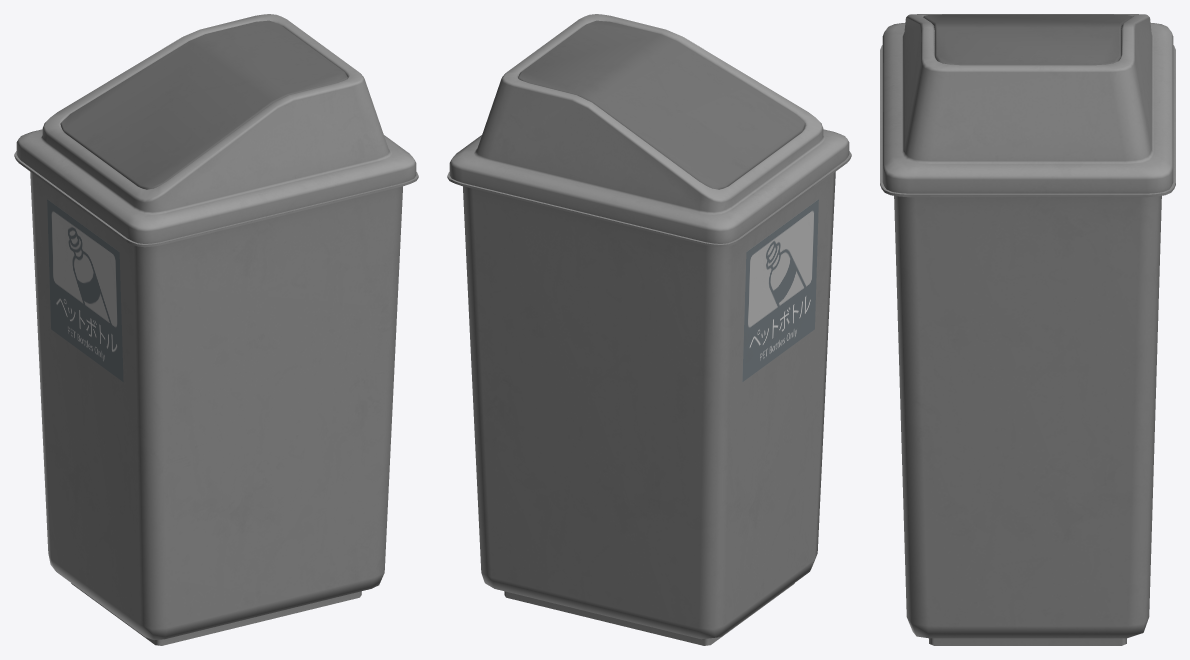
The model's file is SM_Trash_01.fbx.
3 views of the same model, side by side, from view 1: azimuth 30°, elevation 25°; view 2: azimuth 150°, elevation 25°; view 3: azimuth 270°, elevation 25° (orthographic). The views are drawn at different scales.
Parts seen in each view (by area): view 1: SM_Trash_01_LOD0; view 2: SM_Trash_01_LOD0; view 3: SM_Trash_01_LOD0.
Part boxes in pixels (bbox=[...]): SM_Trash_01_LOD0: bbox=[14, 14, 418, 645]; SM_Trash_01_LOD0: bbox=[447, 14, 851, 645]; SM_Trash_01_LOD0: bbox=[880, 14, 1175, 645].
Bounding box in the file's own units: 36.77 × 29.27 × 63.15.
Materials: 1 (1 with a texture image).
